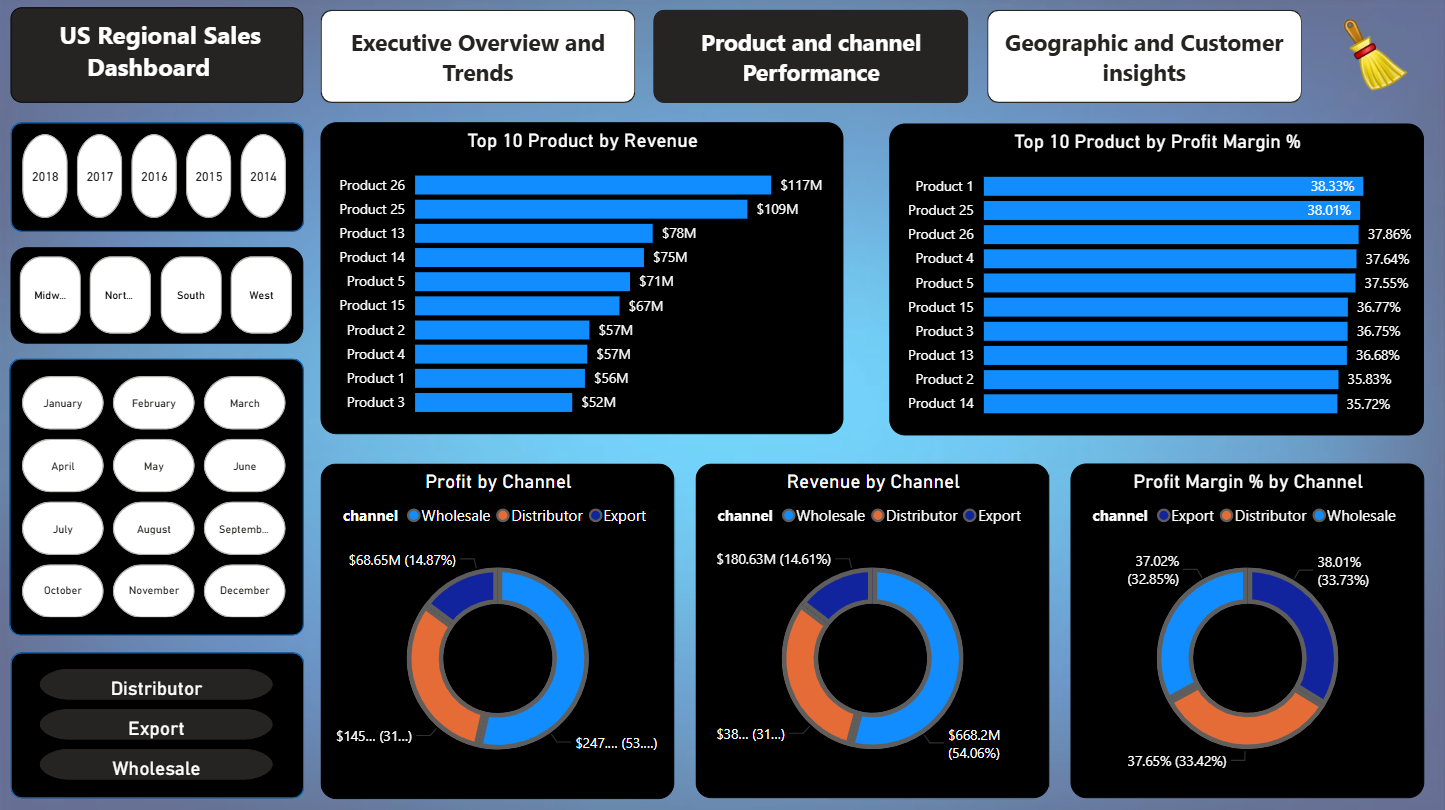

Layout of this report page (visuals, bound fields, positions):
{"tool":"powerbi","page":{"name":"Product and channel Performance","canvas":[1280,720],"ordinal":1},"visuals":[{"type":"textbox","box":[11,9.6,258,83.7],"z":0},{"type":"pageNavigator","box":[283.3,11.9,864.3,82.1],"z":1000},{"type":"shape","box":[10.7,110.7,258.3,96.4],"z":2000},{"type":"advancedSlicerVisual","fields":{"Values":["Sales_data.order_date.Variation.Date Hierarchy.Year"]},"box":[16.7,116.7,244,84.5],"z":3000},{"type":"shape","box":[10.3,319.4,259.1,243.7],"z":4000},{"type":"advancedSlicerVisual","fields":{"Values":["Sales_data.order_date.Variation.Date Hierarchy.Month"]},"box":[15.4,328.4,246.3,225.8],"z":5000},{"type":"shape","box":[10.7,577.4,258.3,128.6],"z":6000},{"type":"advancedSlicerVisual","fields":{"Values":["Sales_data.channel"]},"box":[32.1,587.5,215.5,109],"z":7000},{"type":"advancedSlicerVisual","fields":{"Values":["Sales_data.us_region"]},"box":[11.5,220.6,257.8,84.7],"z":8000},{"type":"barChart","title":"Top 10 Product by Revenue","fields":{"Category":["Sales_data.product_name"],"Y":["Sum(Sales_data.revenue)"]},"box":[283.4,111.3,459.9,274.5],"z":9000},{"type":"barChart","title":"Top 10  Product by Profit Margin %","fields":{"Category":["Sales_data.product_name"],"Y":["Sales_data.Profit_Margin_in_%"]},"box":[784.3,112.6,470.6,274.5],"z":10000},{"type":"donutChart","title":" Profit by Channel","fields":{"Category":["Sales_data.channel"],"Y":["Sum(Sales_data.profit)"]},"box":[283.4,410.9,311.5,295.2],"z":11000},{"type":"donutChart","title":" Revenue by Channel","fields":{"Category":["Sales_data.channel"],"Y":["Sum(Sales_data.revenue)"]},"box":[613.6,411.1,311.2,294.8],"z":12000},{"type":"donutChart","title":"Profit Margin % by Channel","fields":{"Category":["Sales_data.channel"],"Y":["Sales_data.Profit_Margin_in_%"]},"box":[943.7,411.1,311.2,294.8],"z":13000},{"type":"image","box":[1176.2,11.9,78.6,85.7],"z":13001}]}

Visuals, with their boxes in screenshot pixels (x1, y1, x2, y2), scaled from the page's 1280x720 canvas onto the 1445x810 screenshot:
textbox: {"left": 12, "top": 11, "right": 304, "bottom": 105}
pageNavigator: {"left": 320, "top": 13, "right": 1296, "bottom": 106}
shape: {"left": 12, "top": 125, "right": 304, "bottom": 233}
advancedSlicerVisual - Sales_data.order_date.Variation.Date Hierarchy.Year: {"left": 19, "top": 131, "right": 294, "bottom": 226}
shape: {"left": 12, "top": 359, "right": 304, "bottom": 633}
advancedSlicerVisual - Sales_data.order_date.Variation.Date Hierarchy.Month: {"left": 17, "top": 369, "right": 295, "bottom": 623}
shape: {"left": 12, "top": 650, "right": 304, "bottom": 794}
advancedSlicerVisual - Sales_data.channel: {"left": 36, "top": 661, "right": 280, "bottom": 784}
advancedSlicerVisual - Sales_data.us_region: {"left": 13, "top": 248, "right": 304, "bottom": 343}
"Top 10 Product by Revenue" barChart: {"left": 320, "top": 125, "right": 839, "bottom": 434}
"Top 10  Product by Profit Margin %" barChart: {"left": 885, "top": 127, "right": 1417, "bottom": 435}
" Profit by Channel" donutChart: {"left": 320, "top": 462, "right": 672, "bottom": 794}
" Revenue by Channel" donutChart: {"left": 693, "top": 462, "right": 1044, "bottom": 794}
"Profit Margin % by Channel" donutChart: {"left": 1065, "top": 462, "right": 1417, "bottom": 794}
image: {"left": 1328, "top": 13, "right": 1417, "bottom": 110}
